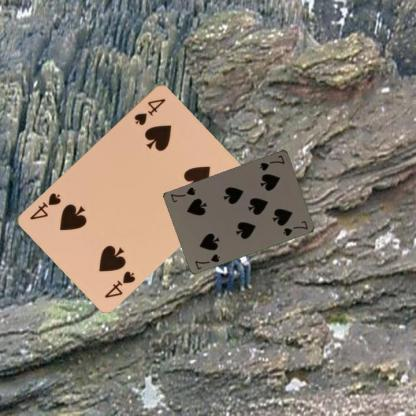4s: (102, 268, 137, 300), (131, 96, 167, 126)
7s: (257, 152, 286, 172), (192, 252, 222, 270)
